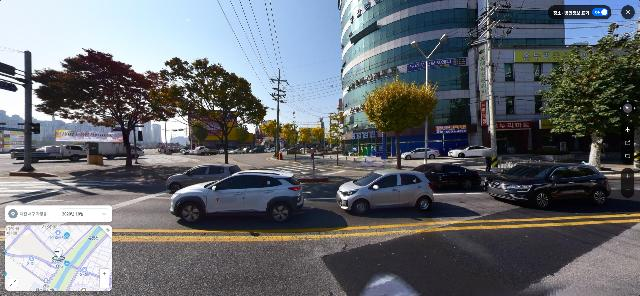ginkgo: (358, 75, 439, 169), (259, 119, 281, 149), (282, 123, 301, 154), (312, 127, 326, 159), (300, 127, 313, 155)
other: (29, 47, 174, 167), (541, 23, 640, 171), (147, 57, 267, 164), (325, 118, 356, 164), (188, 121, 209, 148), (237, 129, 251, 149)
